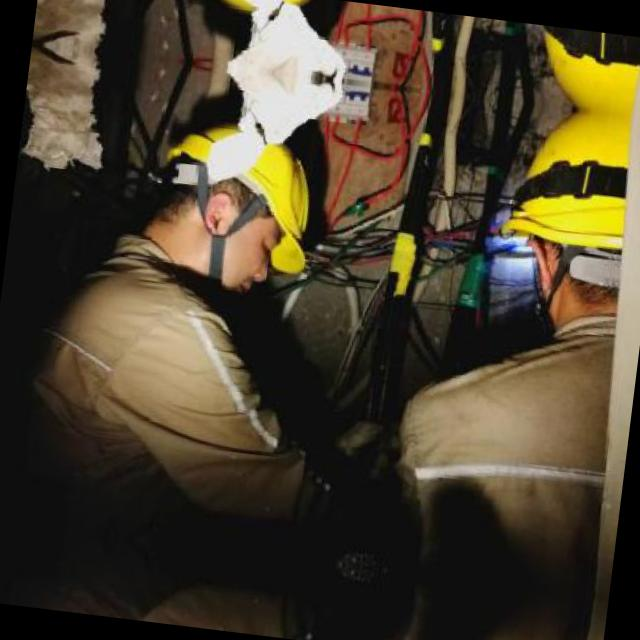helmet: (489, 103, 640, 322), (142, 114, 318, 298), (514, 22, 640, 118)
